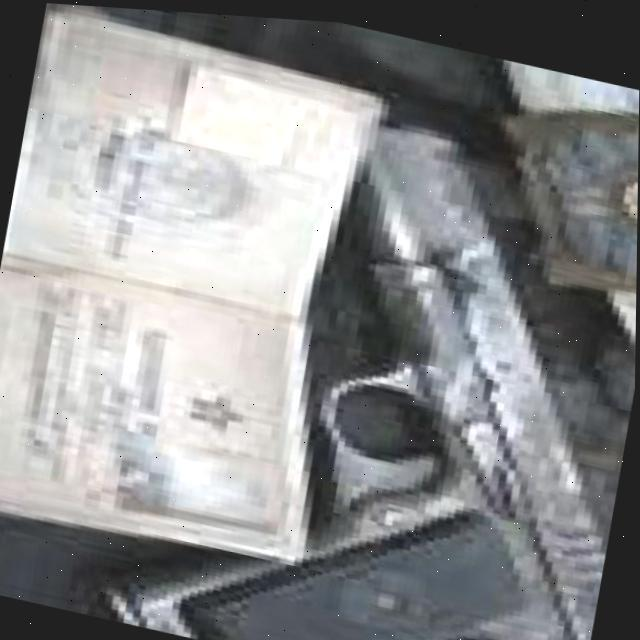gun: (80, 55, 640, 640)
